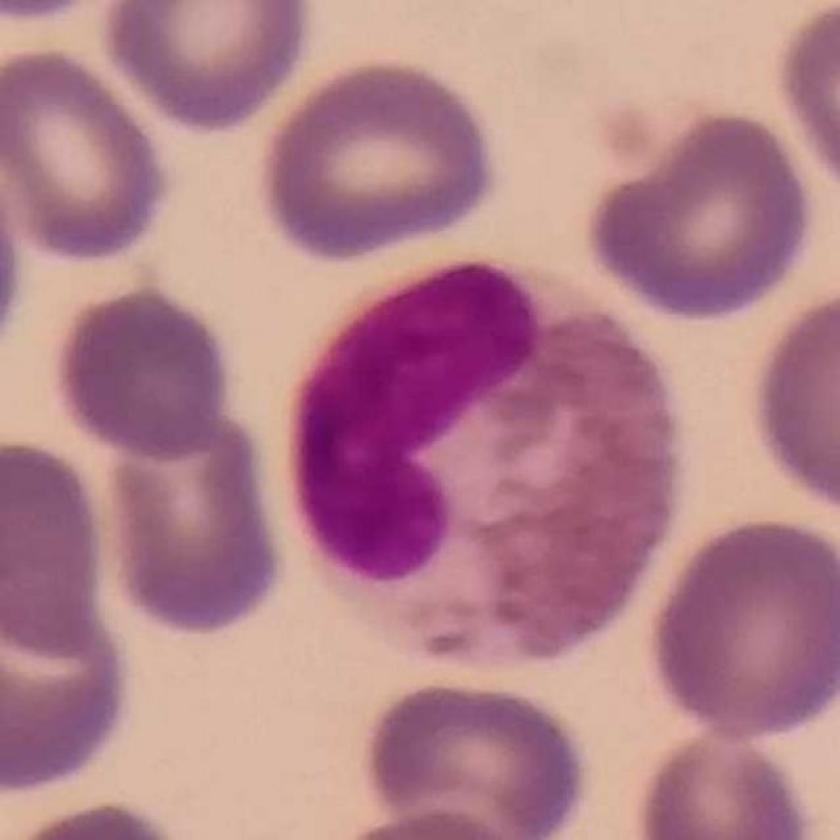eosinophil: (286, 254, 682, 673)
